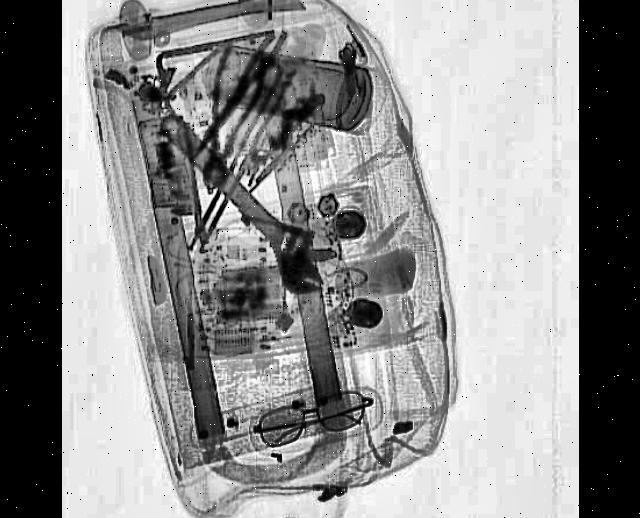Wrench: (147, 92, 340, 316)
